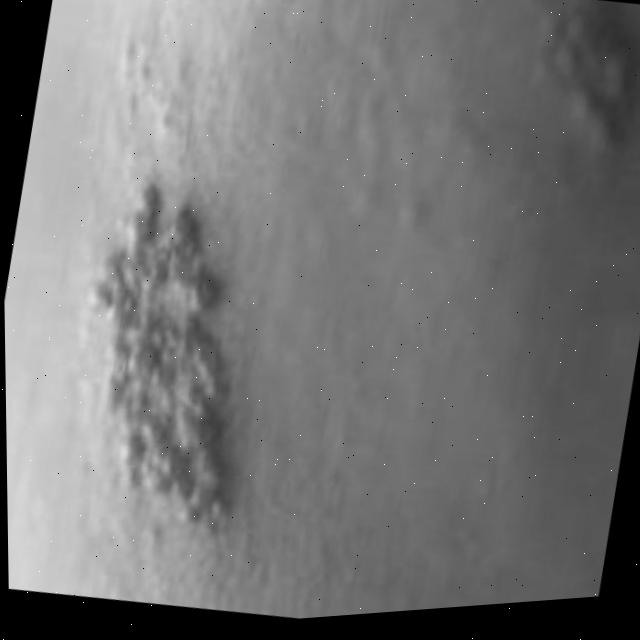Shingles: (52, 168, 280, 530), (522, 0, 640, 162)
